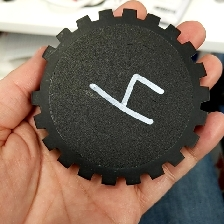gear: (30, 7, 211, 187)
missing: (32, 44, 59, 108)
